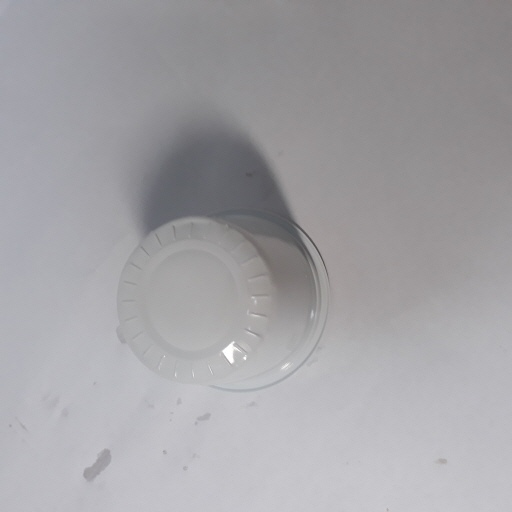Plastic_5: (114, 208, 333, 395)
